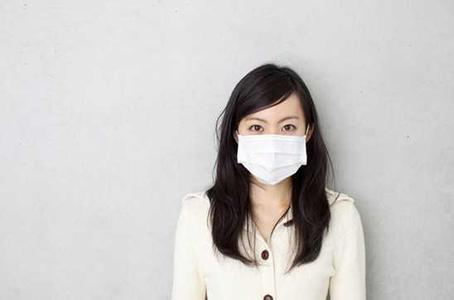face_mask: (236, 101, 305, 186)
